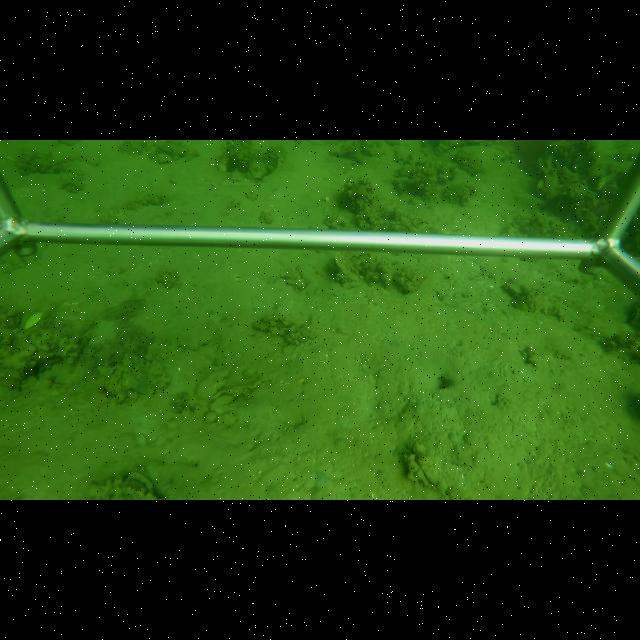Oyster-Closed: (407, 437, 454, 497), (332, 252, 361, 284)
